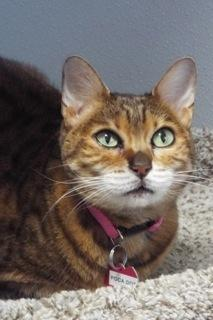bengal: (52, 47, 206, 223)
